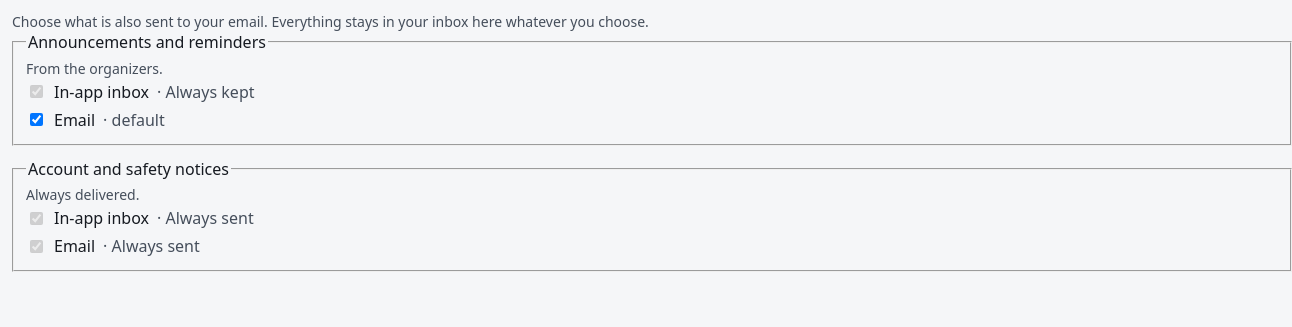
Test: NotificationPreferences › keeps the old value and says why when the server refuses
Click the checkbox labelled "Email · default" at (36, 120), box top-left (30, 113), bottom-right (43, 126)
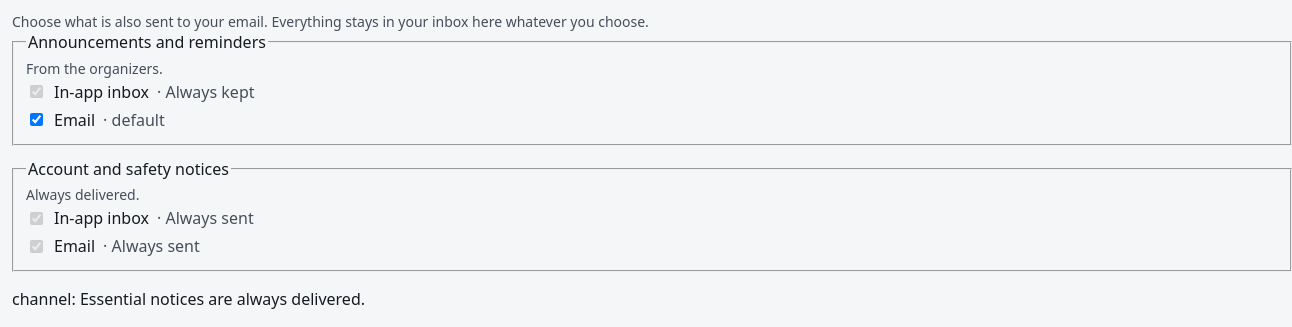
Now the message "channel: Essential notices are always delivered." is shown, box top-left (12, 288), bottom-right (365, 310)
